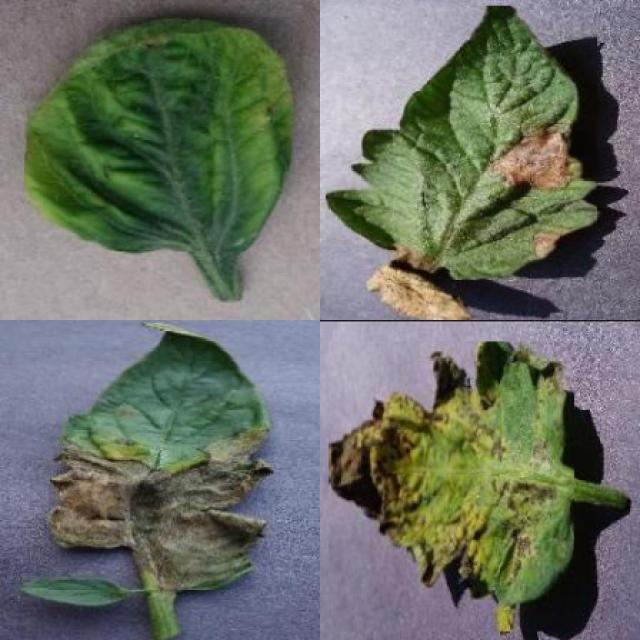Late Blight: (326, 6, 597, 320), (48, 320, 275, 590)
Septoria: (329, 342, 574, 632)
Yellow Leaf Curl Virus: (25, 17, 294, 252)
